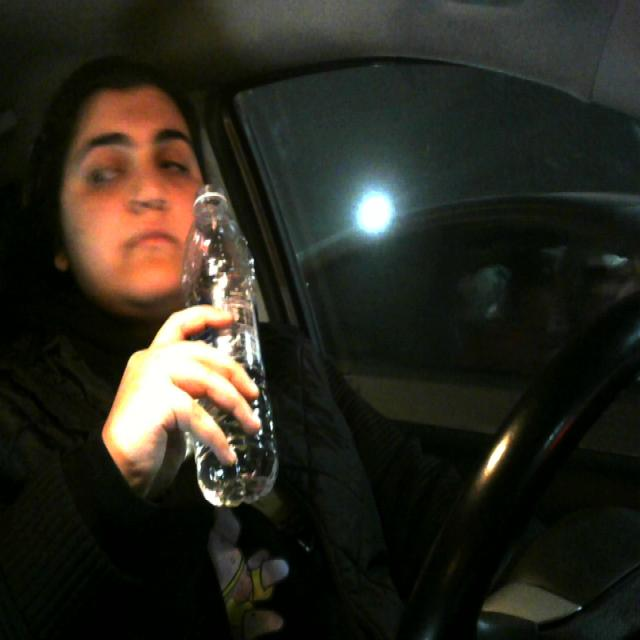drinking: (181, 172, 283, 514)
